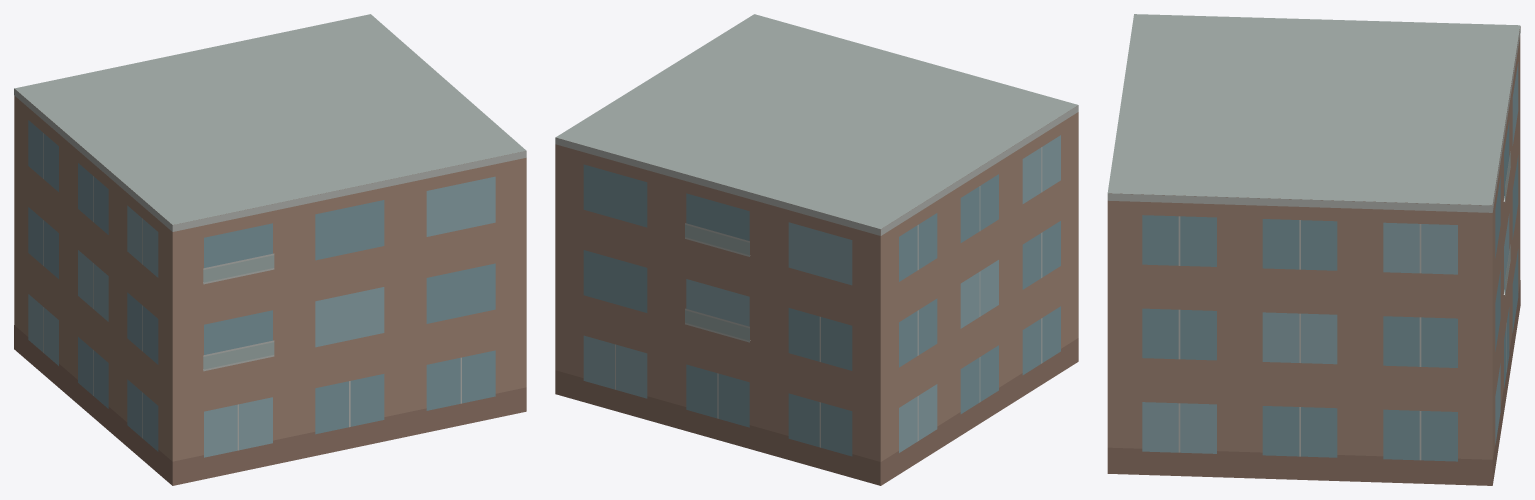
Rendered from survey-upis-32801822.glb.
3 renders of one model, left to right at view 1: azimuth 30°, elevation 25°; view 2: azimuth 150°, elevation 25°; view 3: azimuth 270°, elevation 25°, orthographic. The views are drawn at different scales.
Parts seen in each view (by area): view 1: survey-upis-32801822.tmp; view 2: survey-upis-32801822.tmp; view 3: survey-upis-32801822.tmp.
Part boxes in pixels (box(x1,y1,x2,y2)): survey-upis-32801822.tmp: box(14, 14, 526, 485); survey-upis-32801822.tmp: box(555, 14, 1078, 485); survey-upis-32801822.tmp: box(1107, 14, 1520, 485).
Size of the model in its own units: 13.41 by 9.15 by 12.22.
